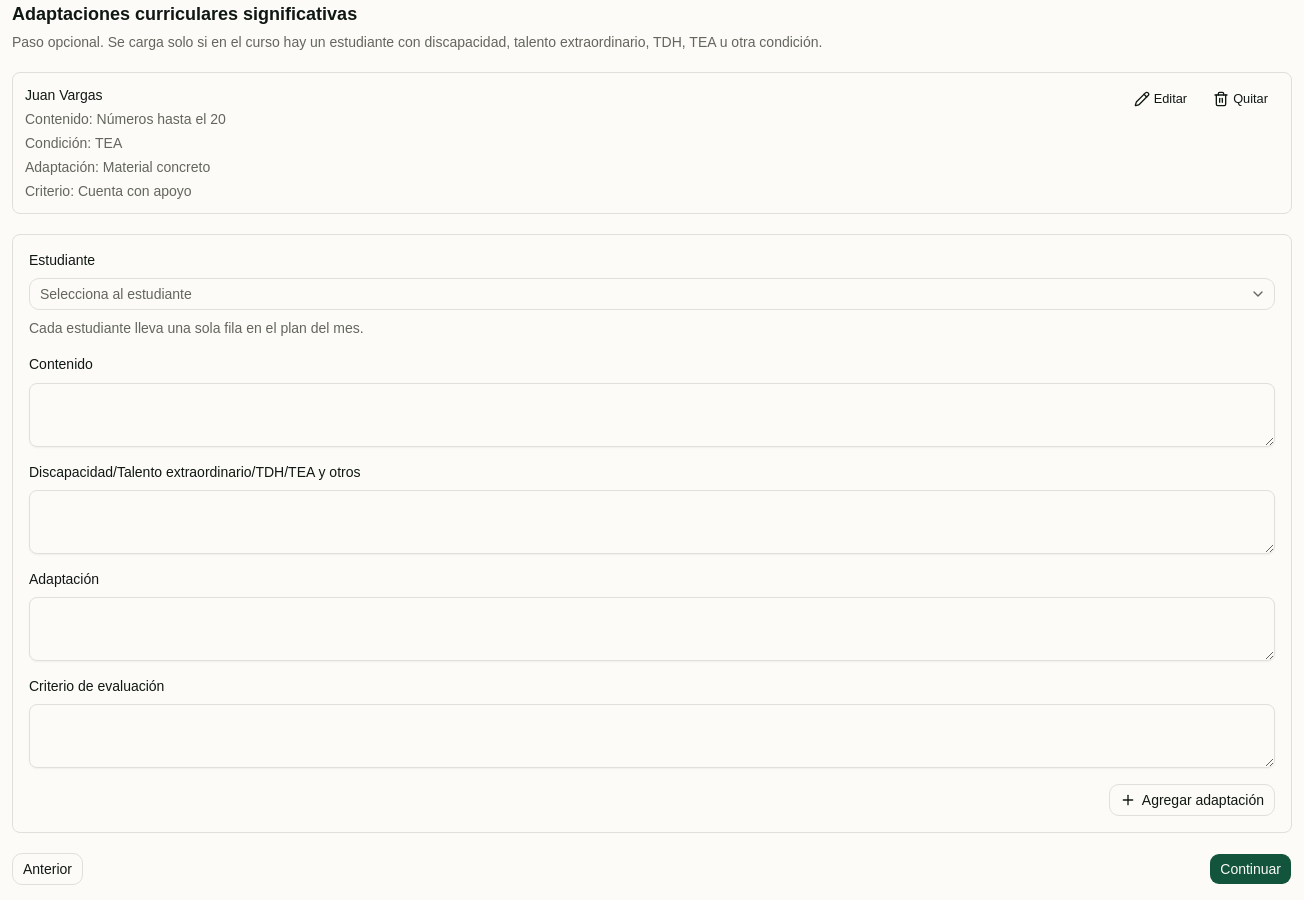
AdaptationsStep › offers only the students who have no adaptation yet
Click the dropdown labelled "Selecciona al estudiante" at (116, 294), box [29,278,1275,310]
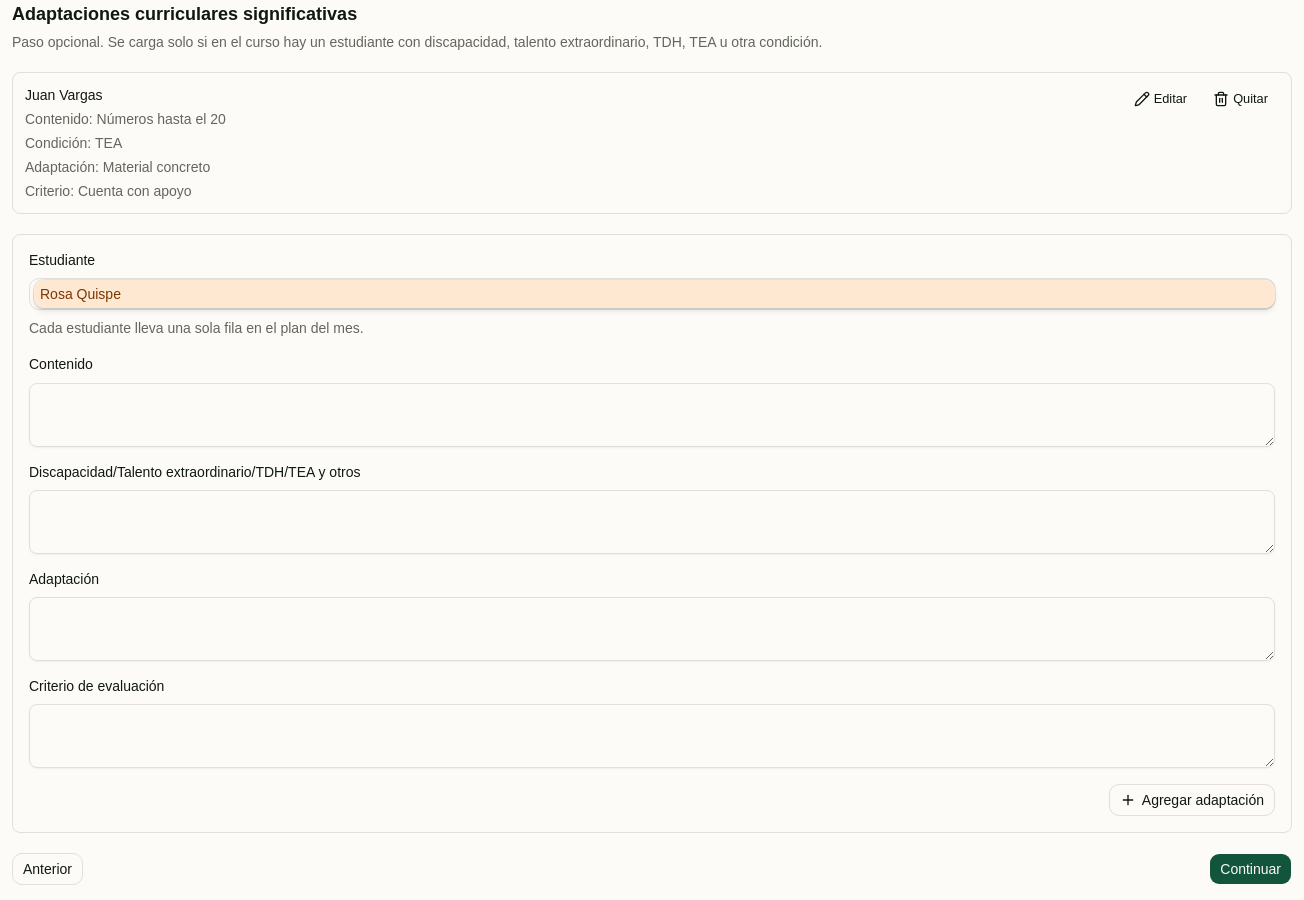
Expected: the option "Rosa Quispe" is shown, [34,280,1275,308]
